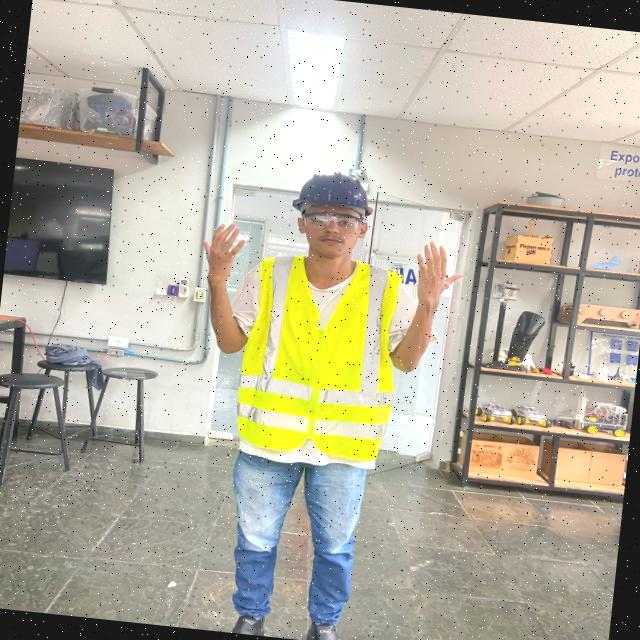BOTA: (225, 605, 268, 635), (306, 614, 345, 640)
CAPACETE: (290, 172, 371, 218)
COLETE: (238, 250, 402, 456)
OCULOS: (297, 212, 364, 231)
SEM LUVA: (198, 219, 248, 281), (414, 240, 466, 294)
